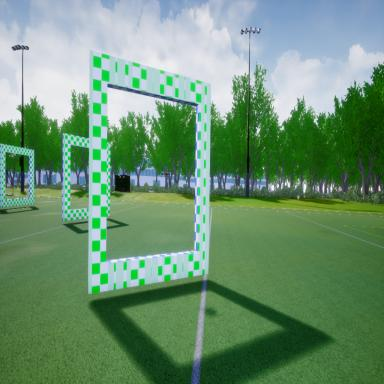gate: (87, 43, 212, 297), (60, 128, 113, 225), (0, 140, 37, 218)
